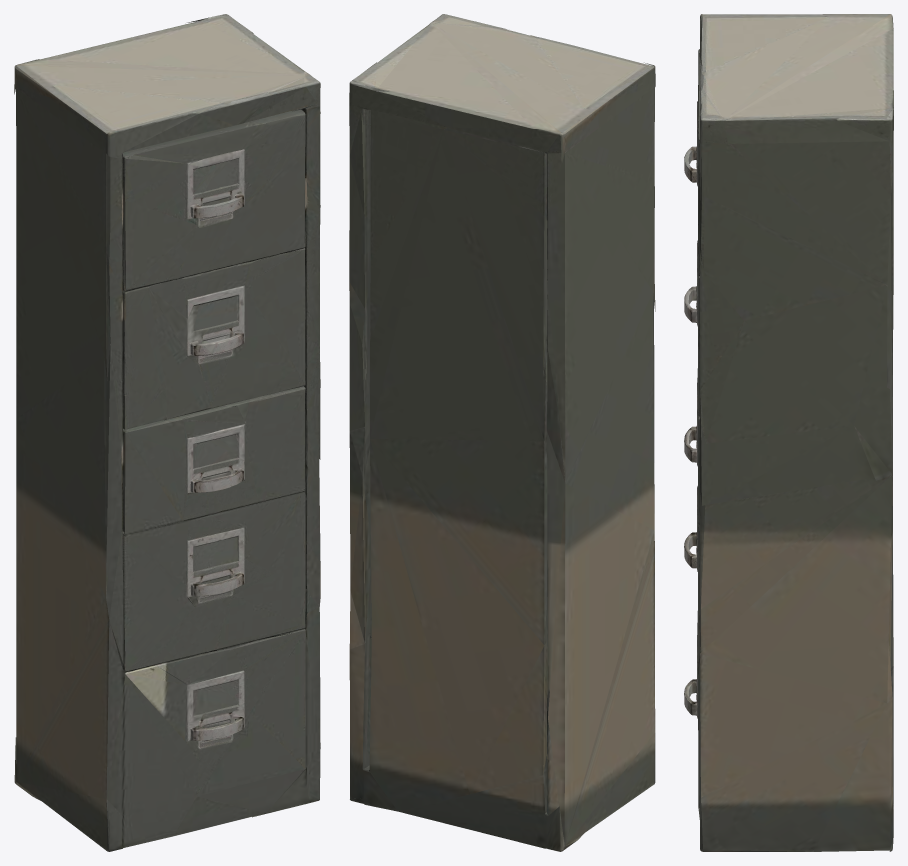
File: schedario_vero_A.glb
3 renders of one model, left to right at view 1: azimuth 30°, elevation 25°; view 2: azimuth 150°, elevation 25°; view 3: azimuth 270°, elevation 25°, orthographic.
Parts seen in each view (by area): view 1: Mesh_0; view 2: Mesh_0; view 3: Mesh_0.
Part boxes in pixels (box(x1,y1,x2,y2)): Mesh_0: box(14, 14, 320, 851); Mesh_0: box(349, 14, 655, 851); Mesh_0: box(684, 14, 893, 851).
Size of the model in its own units: 0.4199 by 1.35 by 0.3498.
1 material, 1 textured.
